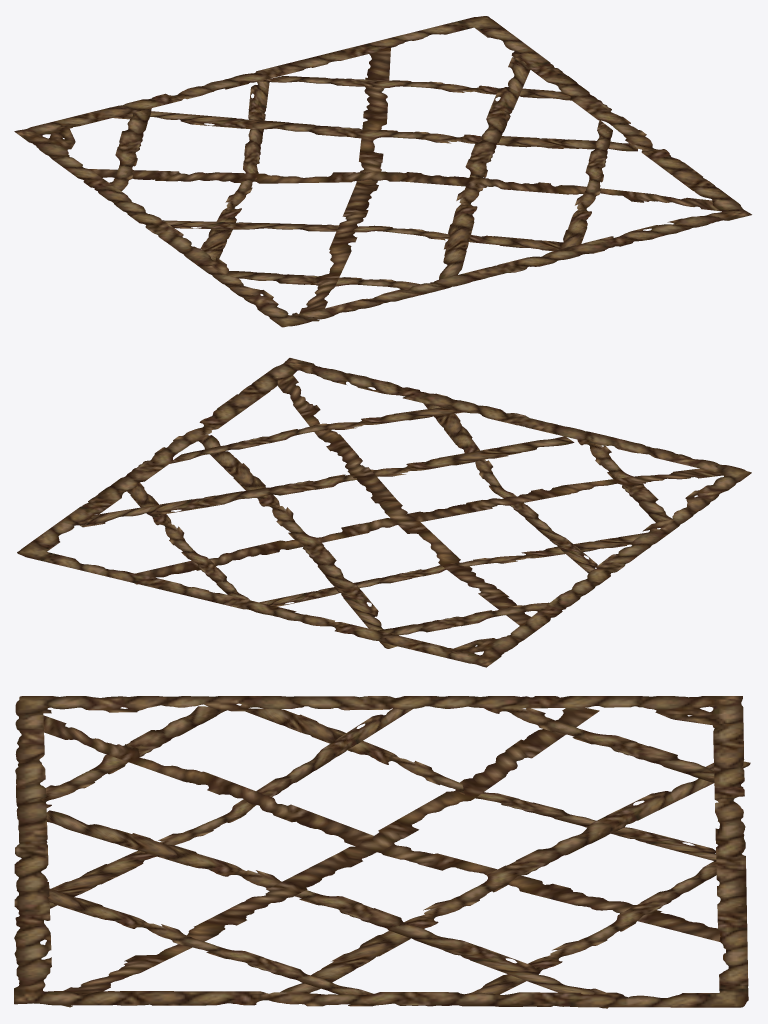
The model's file is 2_DG_Wang_01.FBX.
3 renders of one model, top to bottom at view 1: azimuth 30°, elevation 25°; view 2: azimuth 150°, elevation 25°; view 3: azimuth 270°, elevation 25°, orthographic. The views are drawn at different scales.
Parts seen in each view (by area): view 1: 2_DG_Wang_01; view 2: 2_DG_Wang_01; view 3: 2_DG_Wang_01.
Boxes of the visible parts, x1,y1,x2,y2 form: 2_DG_Wang_01: (14, 16, 751, 327); 2_DG_Wang_01: (17, 358, 751, 667); 2_DG_Wang_01: (14, 696, 750, 1008).
Size of the model in its own units: 684 by 7.96 by 687.
